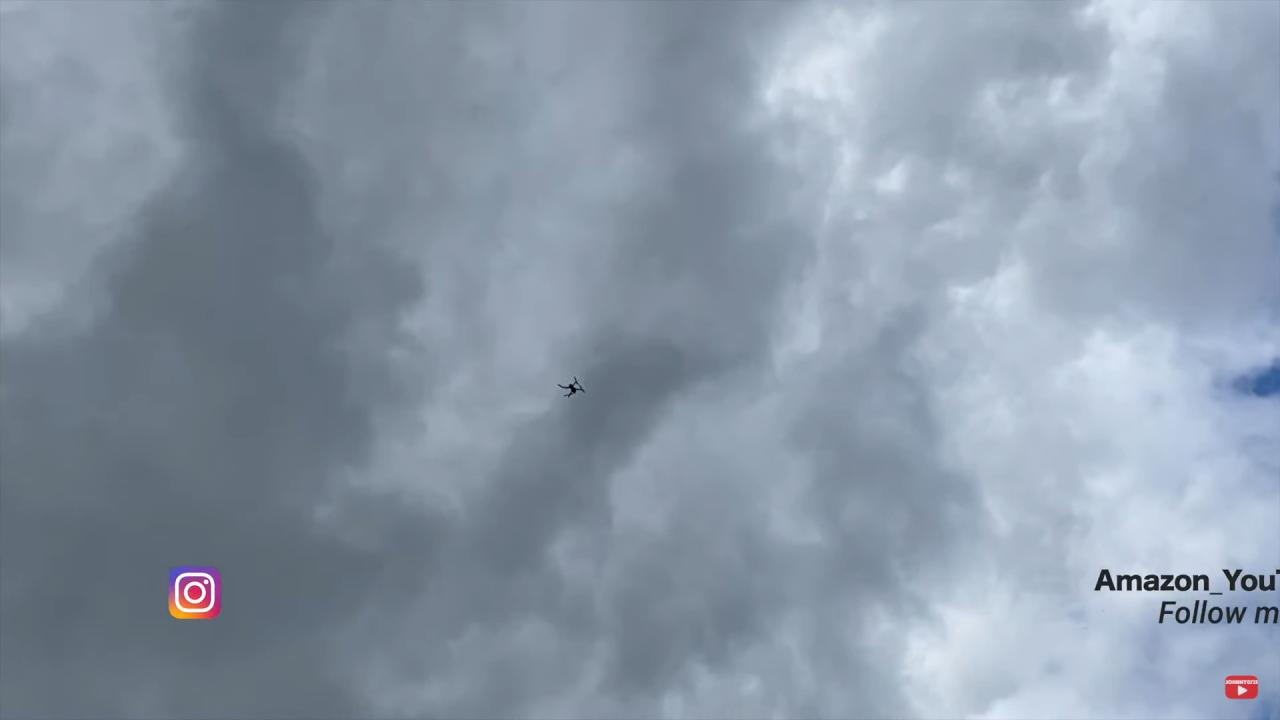Drone: (550, 369, 596, 407)
